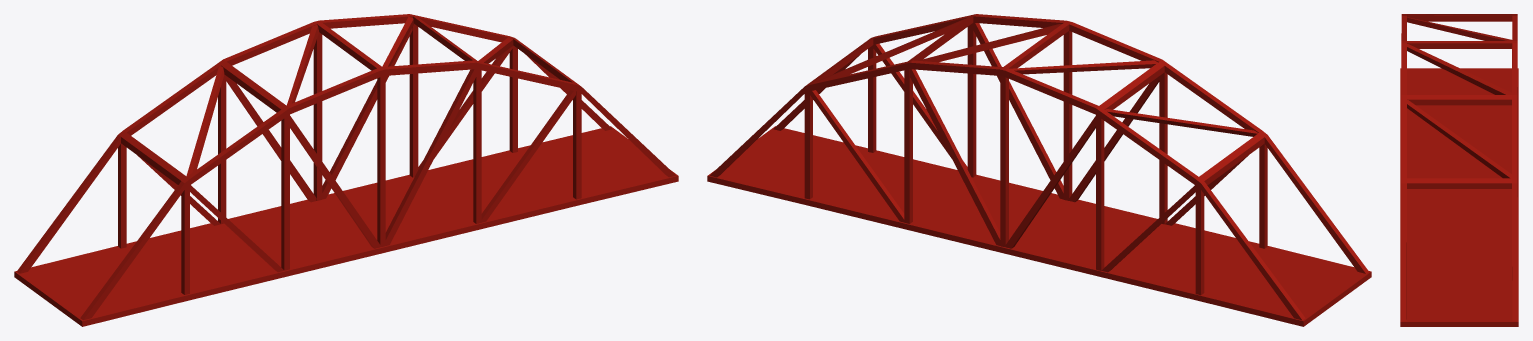
Rendered from bowstringtrussbridge.obj.
3 renders of one model, left to right at view 1: azimuth 30°, elevation 25°; view 2: azimuth 150°, elevation 25°; view 3: azimuth 270°, elevation 25°, orthographic. The views are drawn at different scales.
Visible parts, largest first — view 1: Cube_Cube.005; view 2: Cube_Cube.005; view 3: Cube_Cube.005.
Boxes of the visible parts, left/top/right/bottom form: Cube_Cube.005: left=14, top=14, right=678, bottom=326; Cube_Cube.005: left=707, top=14, right=1371, bottom=326; Cube_Cube.005: left=1400, top=14, right=1518, bottom=326.
Size of the model in its own units: 22.63 by 6.63 by 4.47.
